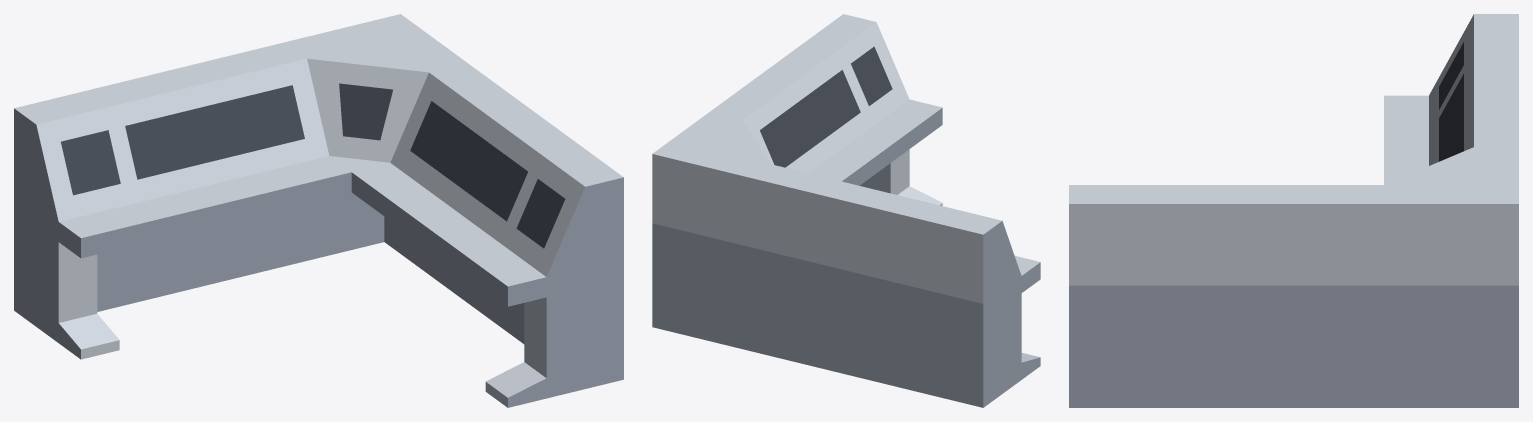
Rendered from desk_computerCorner.glb.
3 views of the same model, side by side, from view 1: azimuth 30°, elevation 25°; view 2: azimuth 150°, elevation 25°; view 3: azimuth 270°, elevation 25° (orthographic). The views are drawn at different scales.
Parts seen in each view (by area): view 1: desk_computerCorner; view 2: desk_computerCorner; view 3: desk_computerCorner.
Boxes of the visible parts, left/top/right/bottom form: desk_computerCorner: left=14, top=14, right=623, bottom=407; desk_computerCorner: left=652, top=14, right=1040, bottom=407; desk_computerCorner: left=1069, top=14, right=1518, bottom=407.
Bounding box in the file's own units: 0.75 × 0.375 × 0.75.
